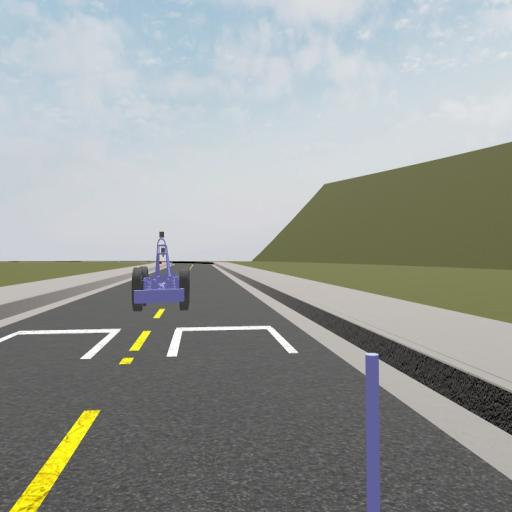ERP-42: (132, 232, 190, 310)
